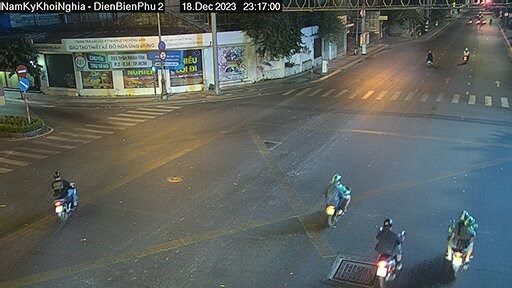motorbike: (303, 165, 364, 235), (356, 216, 402, 278), (442, 210, 484, 277), (37, 167, 85, 224), (421, 46, 441, 63), (458, 42, 476, 58)
